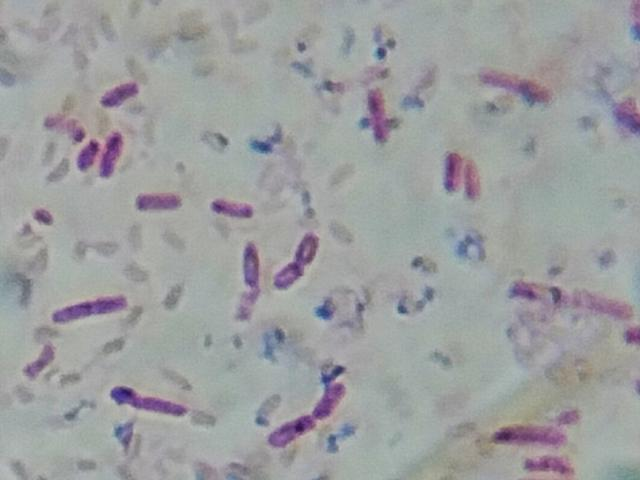E. coli: (515, 274, 634, 318), (53, 290, 135, 329), (278, 230, 321, 293), (482, 66, 557, 102), (118, 385, 191, 421), (495, 417, 576, 449), (517, 454, 581, 480), (365, 85, 392, 144), (272, 416, 319, 448), (311, 377, 347, 417), (242, 239, 269, 290), (133, 189, 192, 211), (212, 190, 256, 219), (101, 76, 144, 104), (461, 159, 489, 202), (102, 129, 124, 179), (442, 149, 465, 187), (78, 136, 95, 167)
